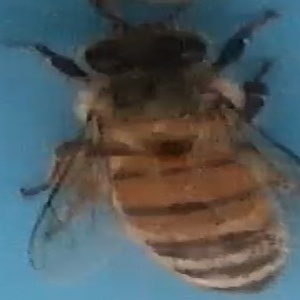bee: (13, 3, 300, 295)
